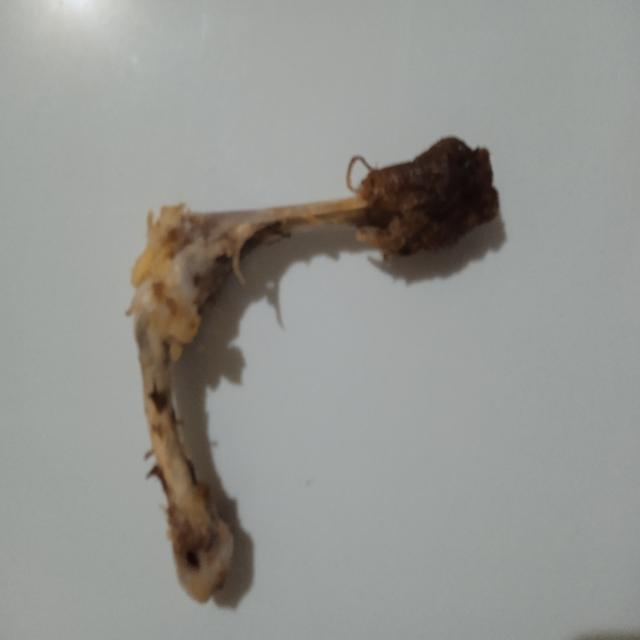bone: (114, 120, 510, 640)
